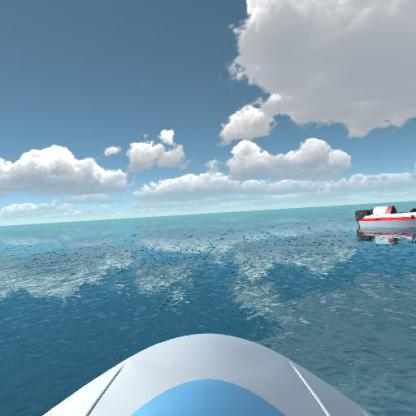usv3: (348, 203, 415, 245)
